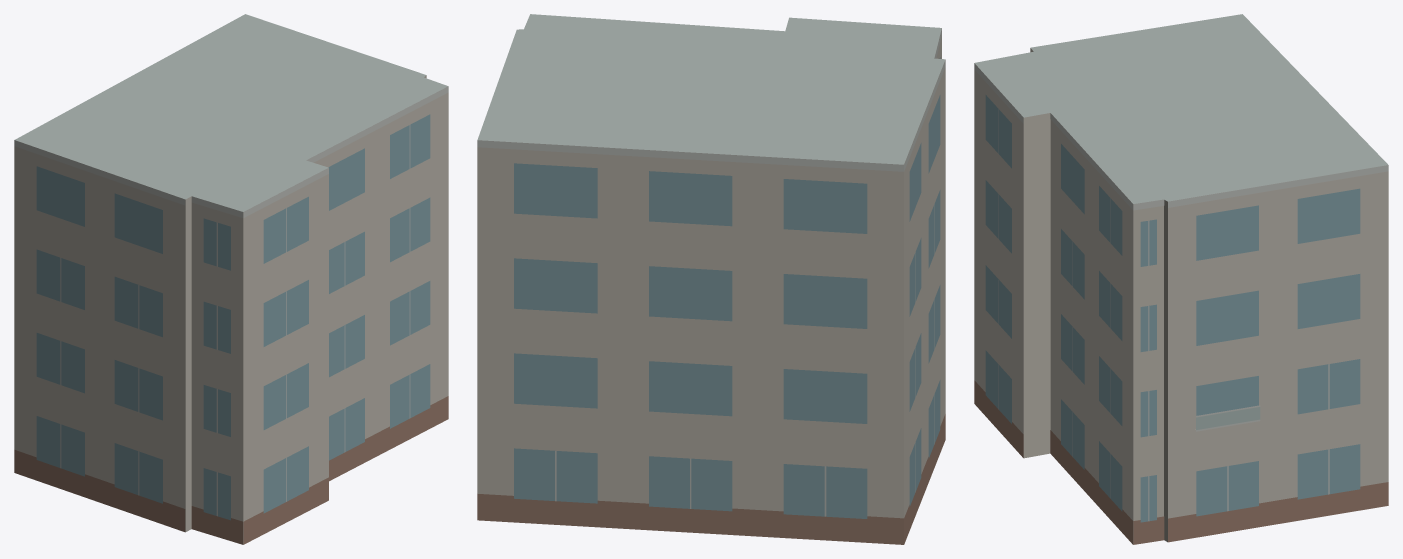
Rendered from survey-upis-32845566.glb.
3 views of the same model, side by side, from view 1: azimuth 30°, elevation 25°; view 2: azimuth 150°, elevation 25°; view 3: azimuth 270°, elevation 25° (orthographic). The views are drawn at different scales.
Parts seen in each view (by area): view 1: survey-upis-32845566.tmp; view 2: survey-upis-32845566.tmp; view 3: survey-upis-32845566.tmp.
Part boxes in pixels (<box>): survey-upis-32845566.tmp: <box>14,14,448,544</box>; survey-upis-32845566.tmp: <box>477,14,945,544</box>; survey-upis-32845566.tmp: <box>974,14,1388,544</box>.
Bounding box in the file's own units: 15.69 × 13.1 × 14.45.
